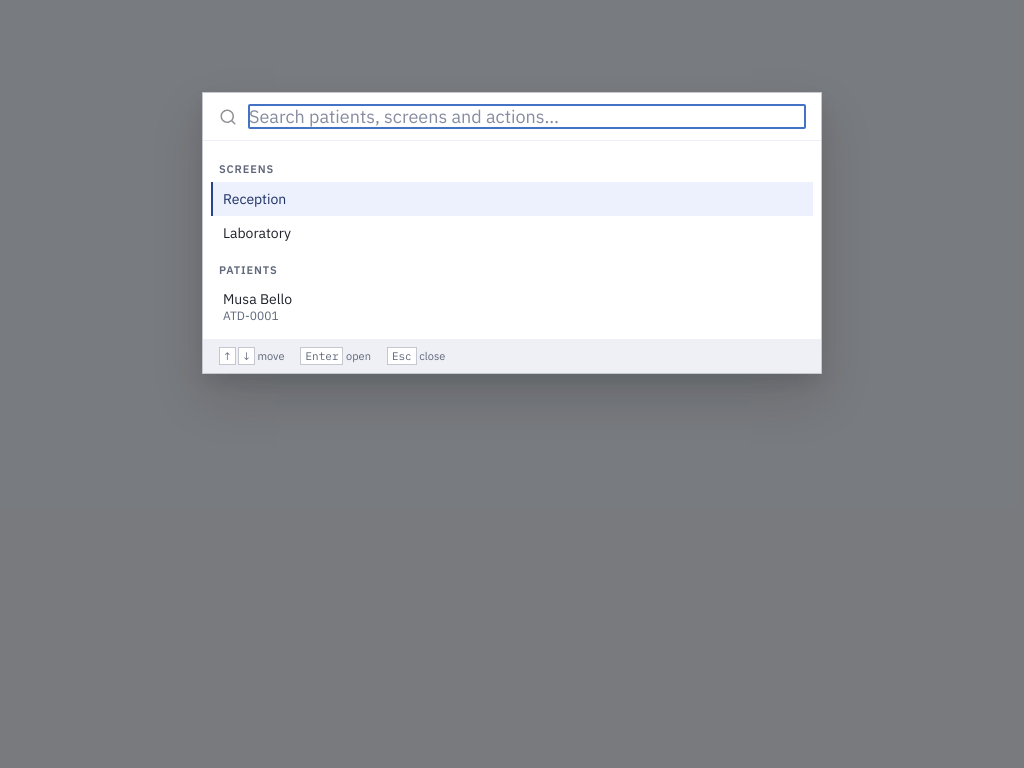
Command palette › narrows the results as the user types
Type "lab" into the dropdown at (527, 117), box left=249, top=105, right=805, bottom=128
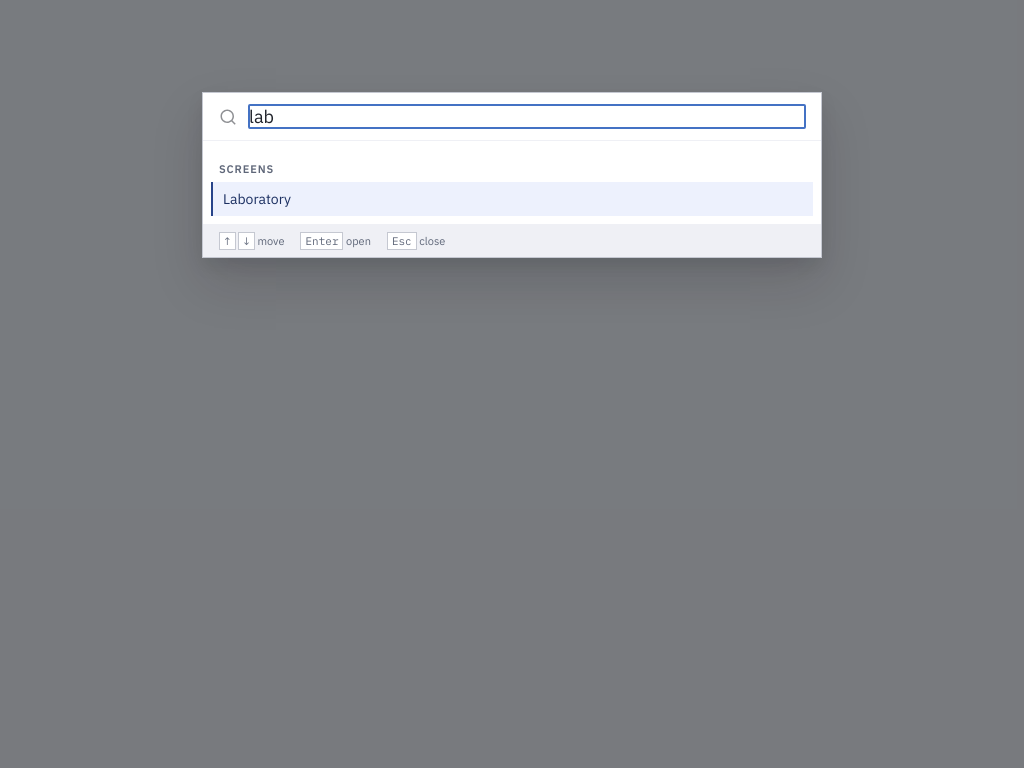
Expected: the option "Laboratory" is shown, left=211, top=182, right=813, bottom=216
Now the option "Musa Bello" is gone
